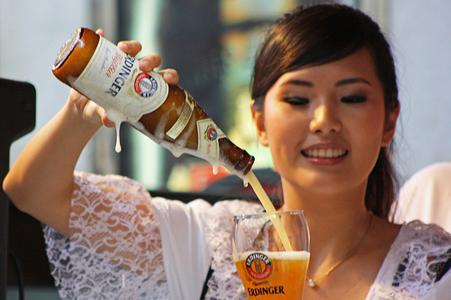person: (3, 4, 450, 300)
